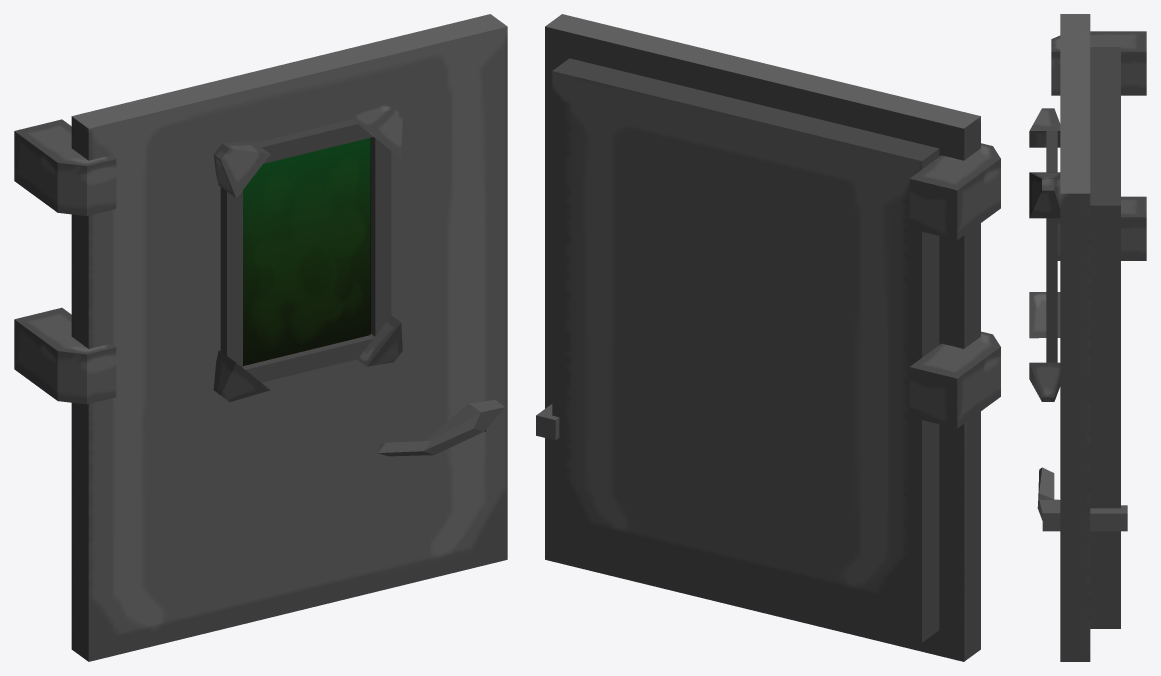
The model's file is fijokaTall.glb.
3 views of the same model, side by side, from view 1: azimuth 30°, elevation 25°; view 2: azimuth 150°, elevation 25°; view 3: azimuth 270°, elevation 25° (orthographic). The views are drawn at different scales.
Visible parts, largest first — view 1: vrataVert, kvaka; view 2: vrataVert; view 3: vrataVert, kvaka.
Boxes of the visible parts, x1,y1,x2,y2 form: vrataVert: (14,14,507,661); kvaka: (378,400,505,456); vrataVert: (545,14,1000,661); vrataVert: (1029,14,1146,661); kvaka: (1037,467,1127,531).
Bounding box in the file's own units: 2.4 × 2.75 × 0.6238.
Materials: 1 (1 with a texture image).
